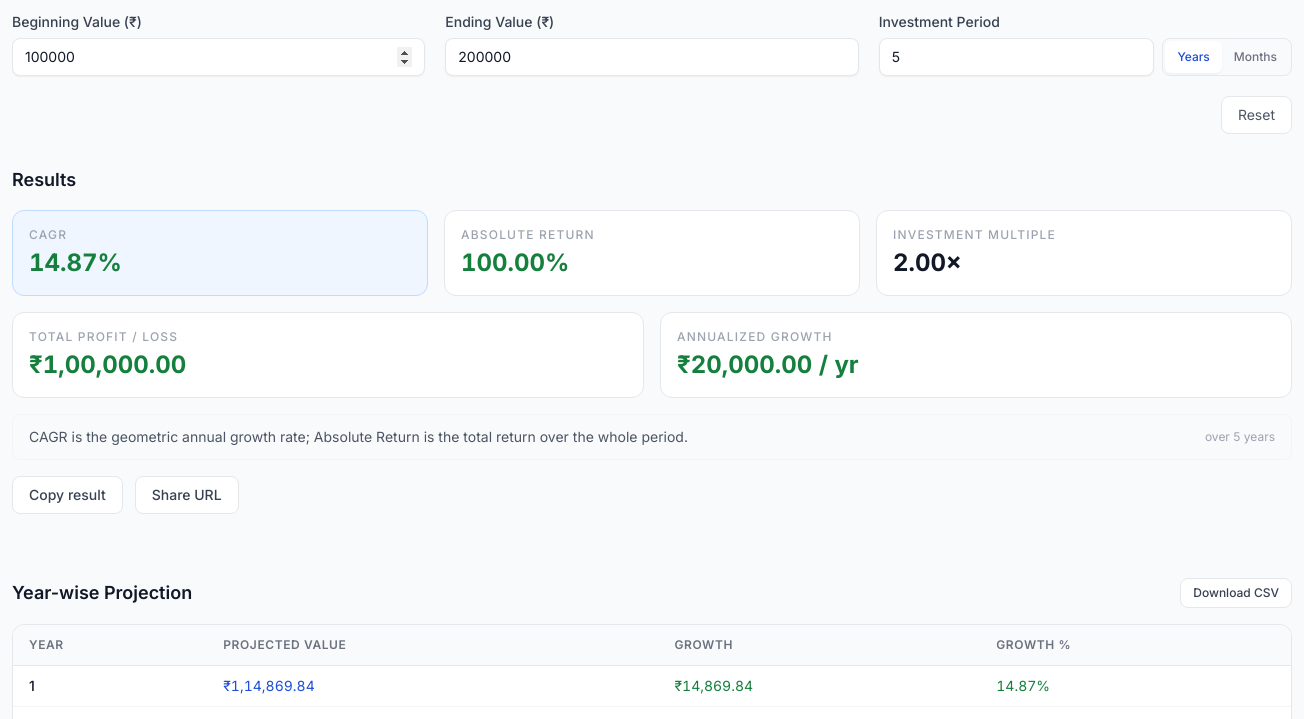
CAGRCalculator › shows error when beginning value is 0
Replace the text in the number field labelled "Beginning Value (₹)" with "0". click: coordinates (219, 57)
box: [12,38,425,76]
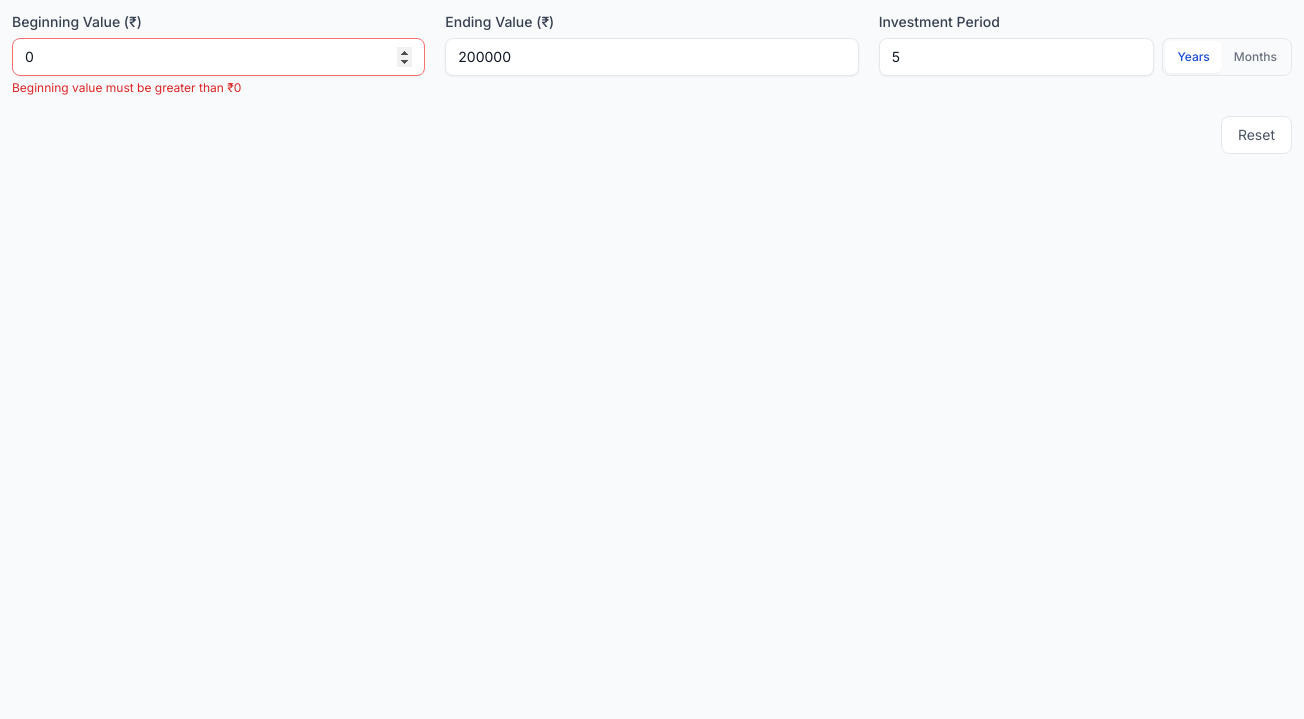
Expected: the text "Beginning value must be greater than ₹0" is shown, [12,80,241,95]
